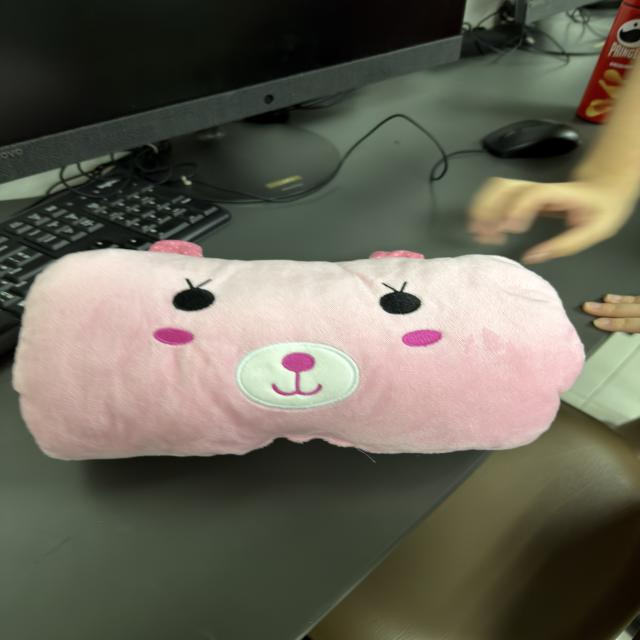pinkpillow: (8, 226, 588, 464)
